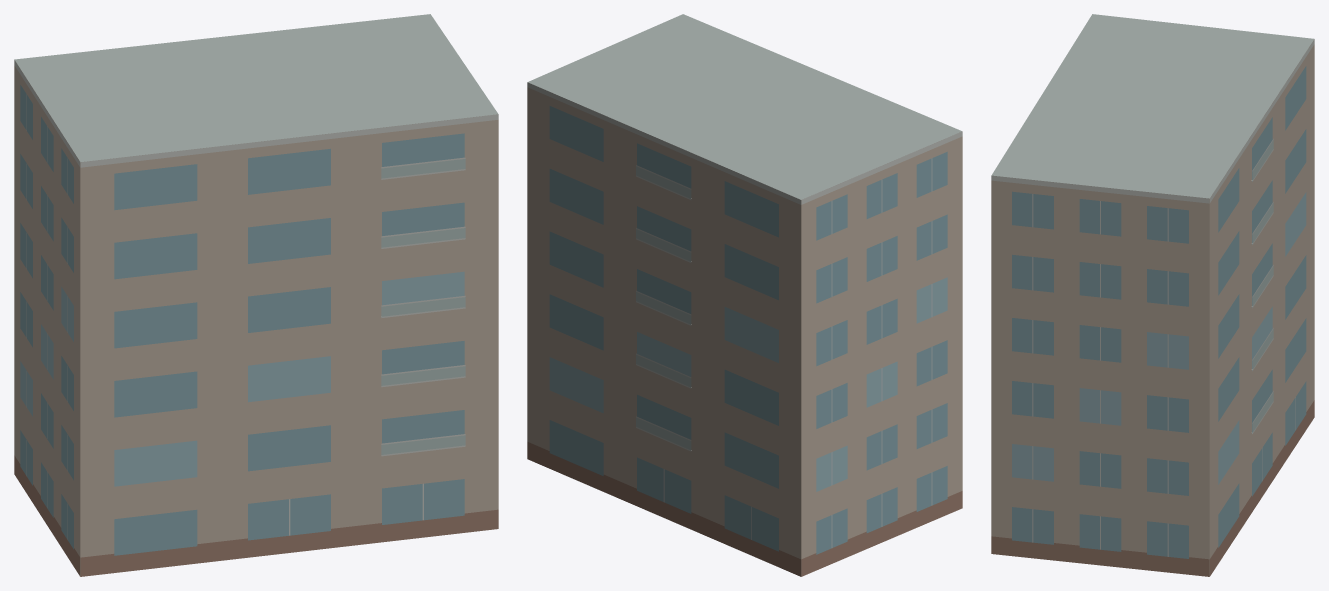
File: survey-upis-32985143.glb
3 renders of one model, left to right at view 1: azimuth 30°, elevation 25°; view 2: azimuth 150°, elevation 25°; view 3: azimuth 270°, elevation 25°, orthographic. The views are drawn at different scales.
Visible parts, largest first — view 1: survey-upis-32985143.tmp; view 2: survey-upis-32985143.tmp; view 3: survey-upis-32985143.tmp.
Boxes of the visible parts, bbox=[...] form: survey-upis-32985143.tmp: bbox=[14, 14, 498, 576]; survey-upis-32985143.tmp: bbox=[527, 14, 962, 576]; survey-upis-32985143.tmp: bbox=[991, 14, 1314, 576].
Size of the model in its own units: 19.15 by 18.3 by 14.18.
